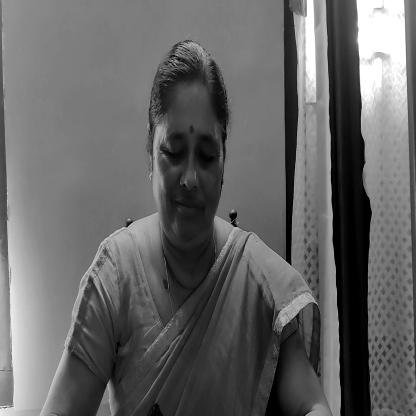Normal: (150, 35, 224, 230)
